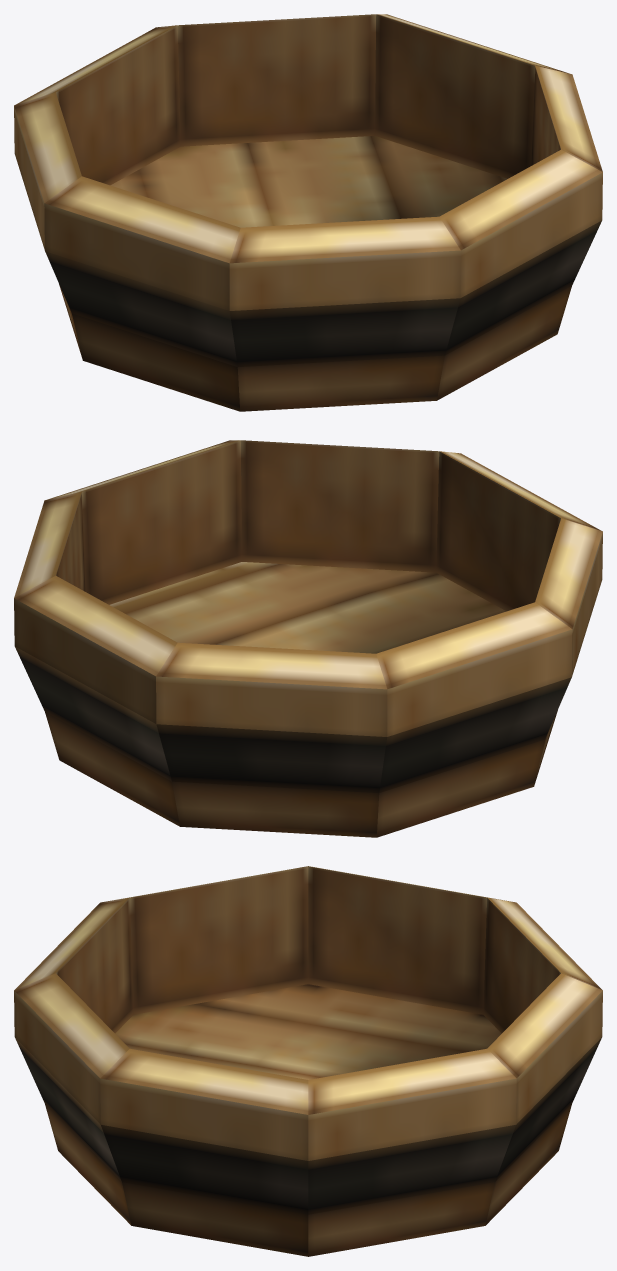
The model's file is Inside_Poly_Bucket_Wide_01.obj.
3 renders of one model, top to bottom at view 1: azimuth 30°, elevation 25°; view 2: azimuth 150°, elevation 25°; view 3: azimuth 270°, elevation 25°, orthographic. The views are drawn at different scales.
Parts seen in each view (by area): view 1: Sphere_Sphere.004; view 2: Sphere_Sphere.004; view 3: Sphere_Sphere.004.
Boxes of the visible parts, x1=… form: Sphere_Sphere.004: x1=14, y1=14, x2=602, y2=411; Sphere_Sphere.004: x1=14, y1=440, x2=602, y2=837; Sphere_Sphere.004: x1=14, y1=866, x2=602, y2=1256.
Bounding box in the file's own units: 1.41 × 0.4727 × 1.41.
1 material, 1 textured.
